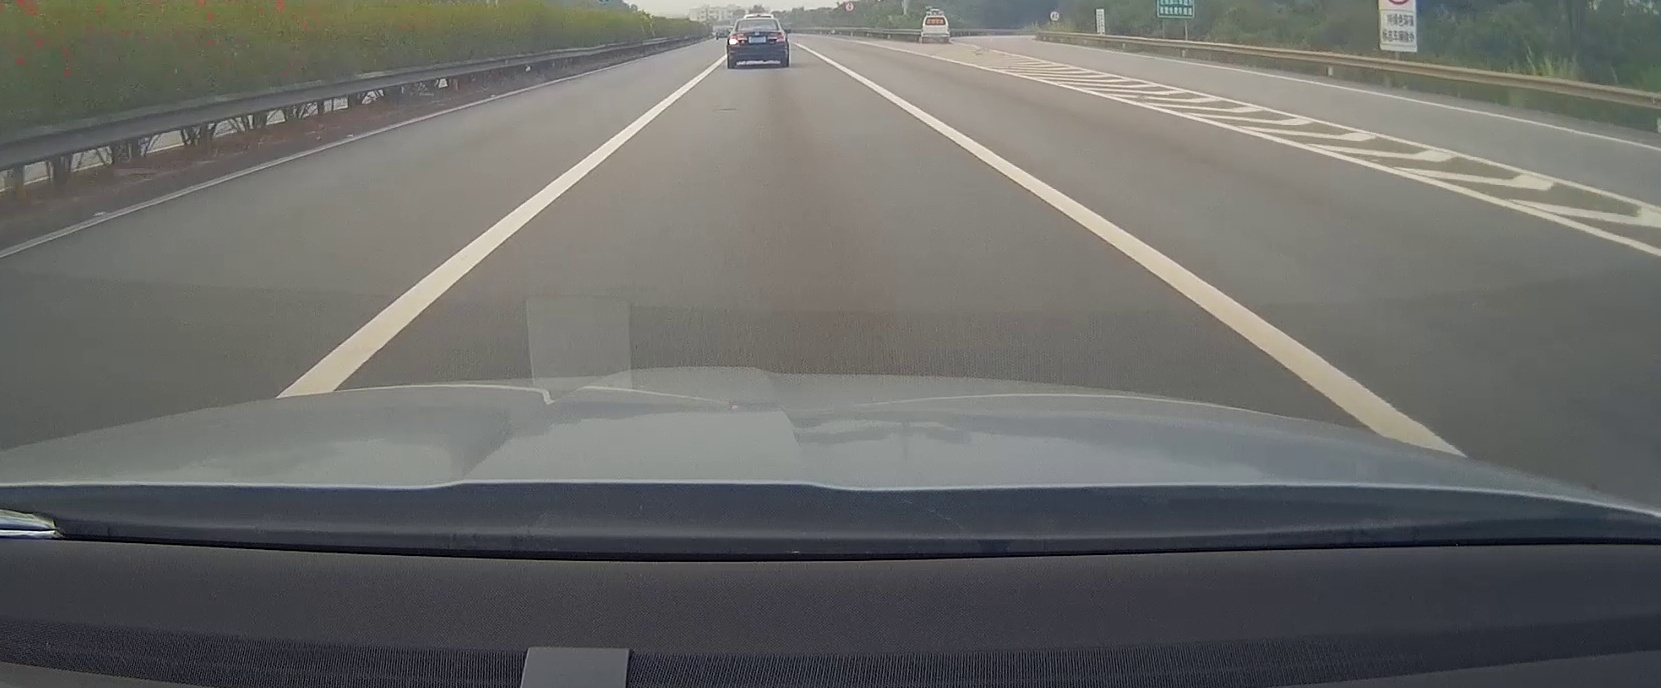L_light: (728, 34, 747, 45)
R_light: (768, 33, 786, 42)
T_light: (753, 20, 761, 23)
day-left: (726, 17, 789, 69)
